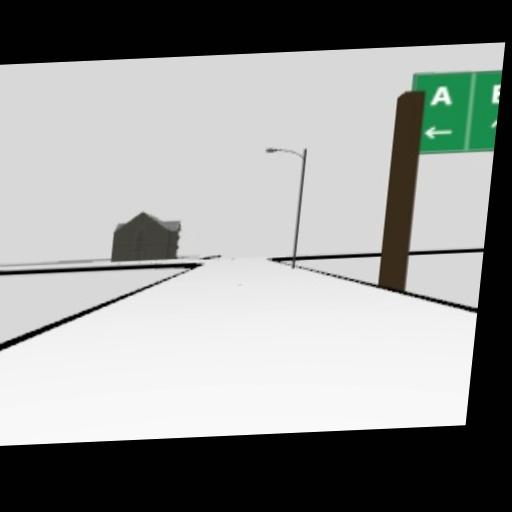A: (430, 83, 453, 105)
B: (491, 81, 501, 102)
Left: (421, 125, 453, 139)
Straight: (488, 117, 497, 139)
